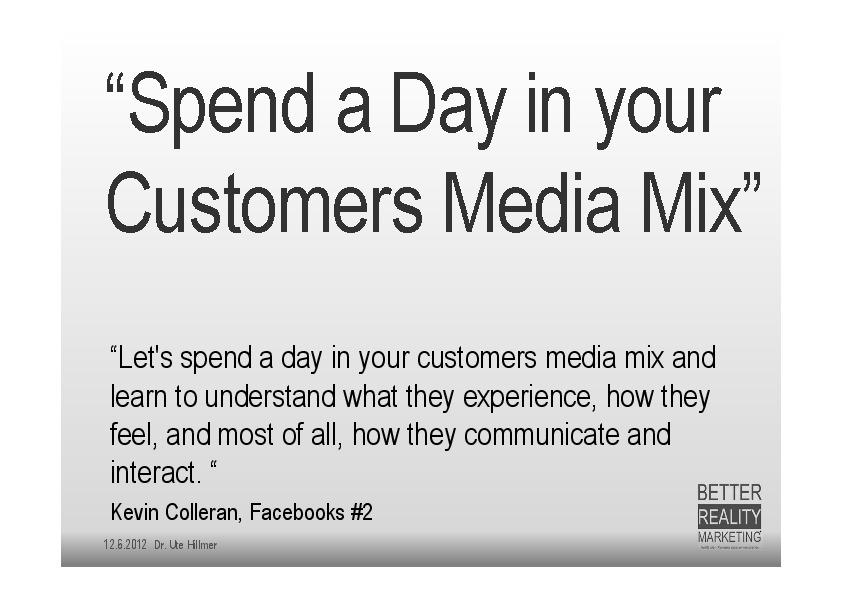paragraph: (89, 305, 755, 529)
subtitle: (96, 528, 483, 563)
title: (102, 54, 776, 260)
